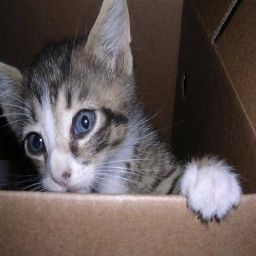cat: (2, 1, 242, 223)
